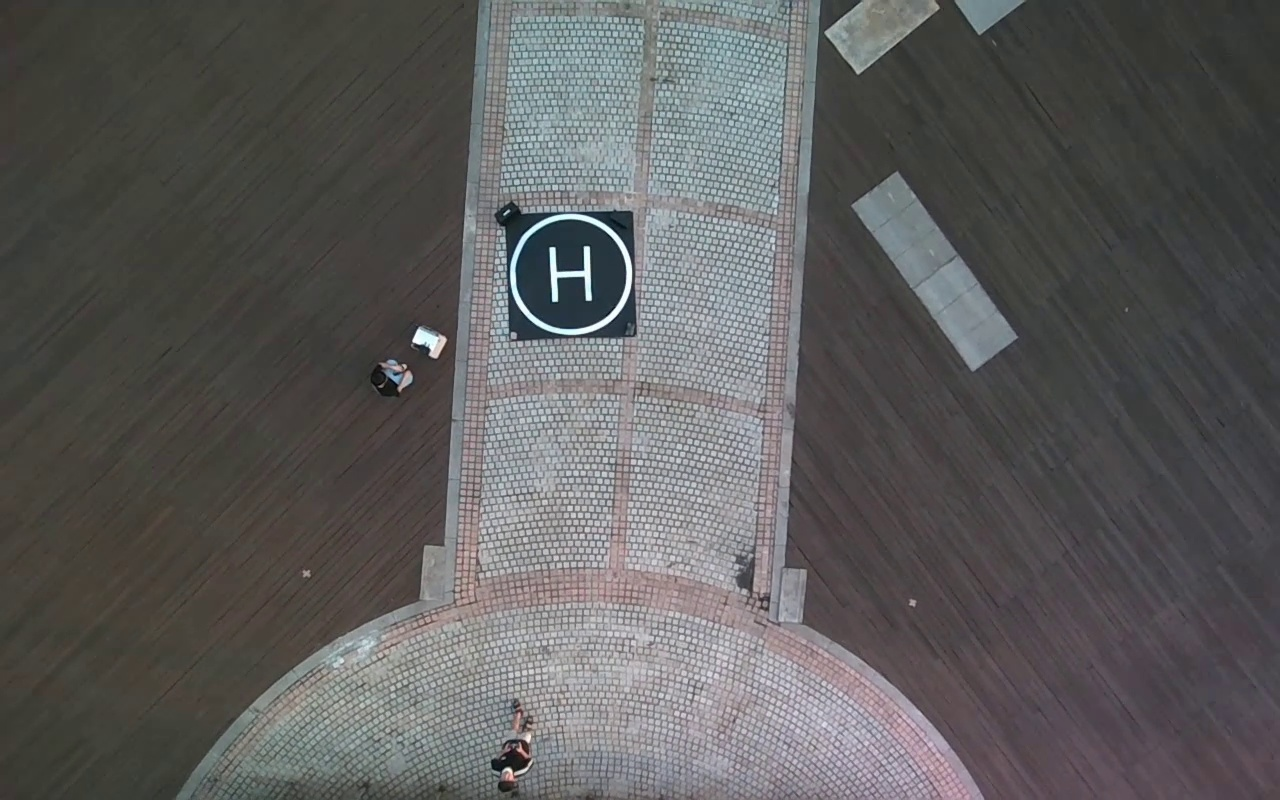H: (547, 245, 594, 305)
heliport: (508, 213, 634, 337)
